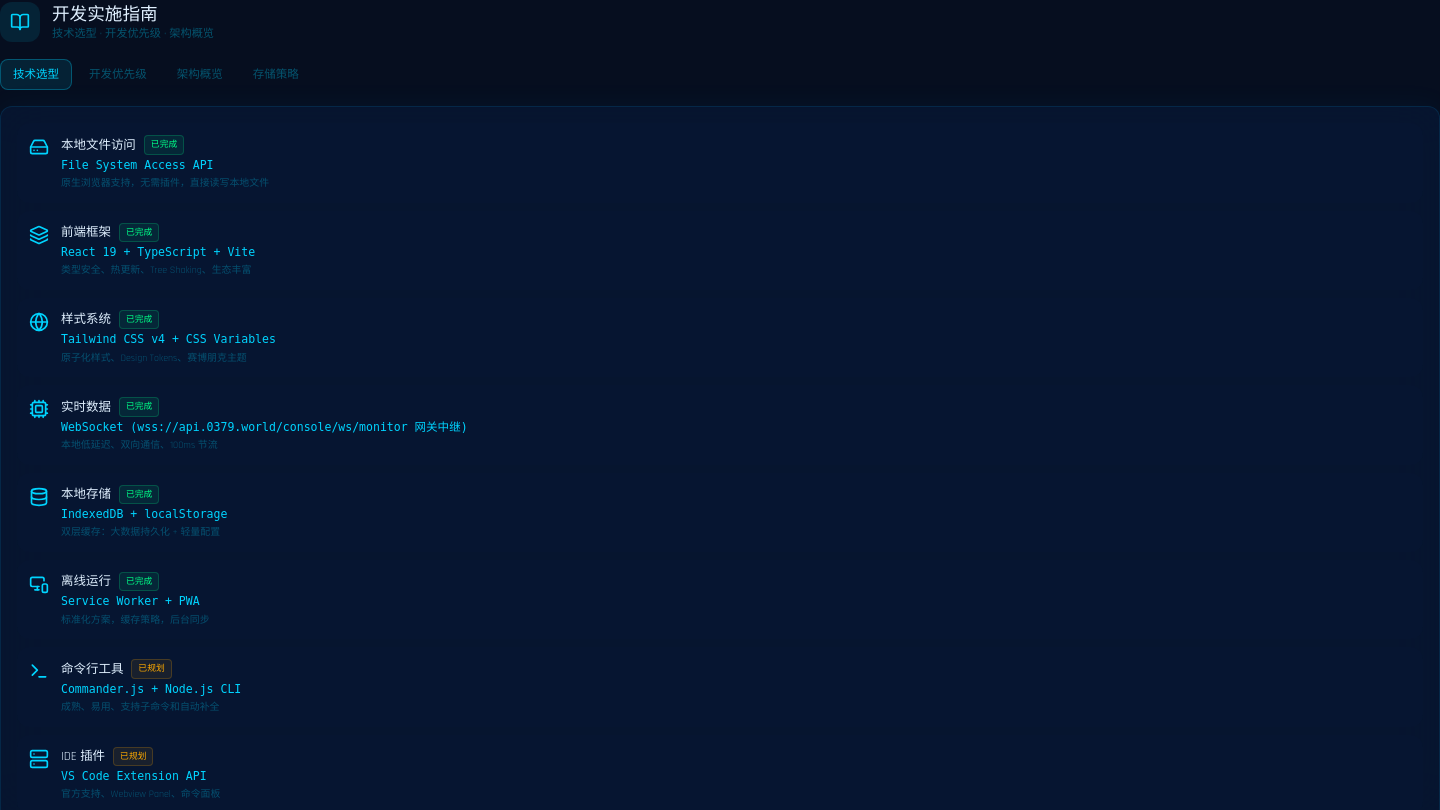
it: DevGuidePage › 切换到存储策略
Click the button with test id "devguide-tab-storage".
click(276, 75)  # box [240,59,312,90]
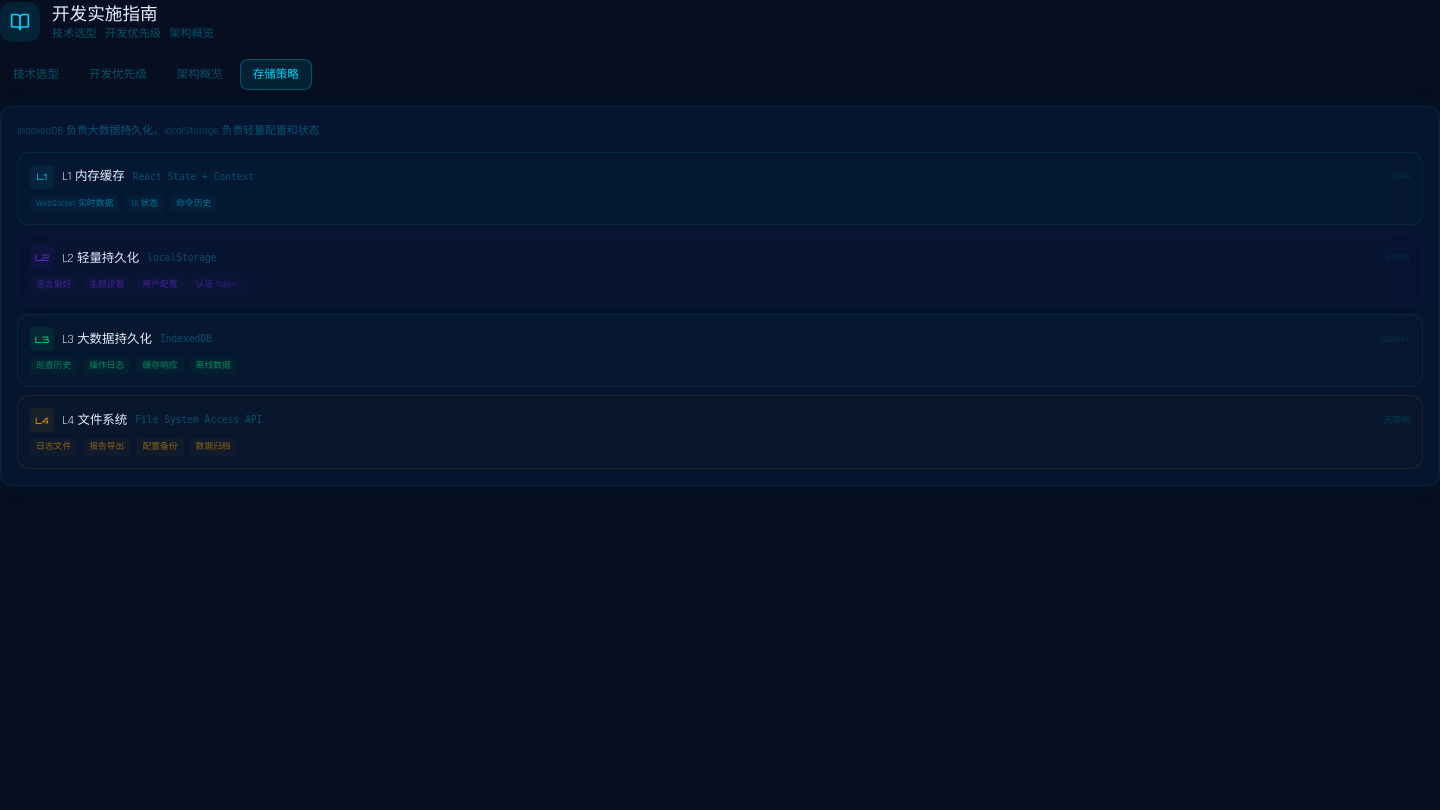
Now the element with test id "devguide-storage" is shown, box [0,106,1439,486]
